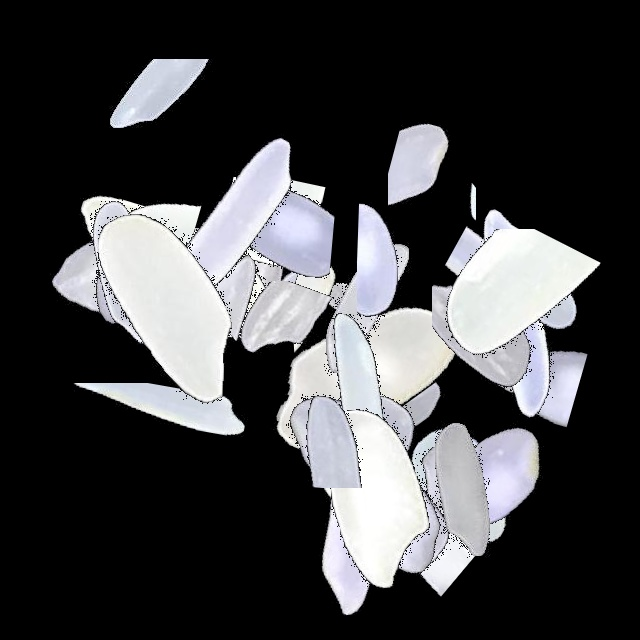Broken: (122, 145, 372, 316), (235, 275, 402, 525), (432, 176, 593, 426), (390, 229, 640, 386), (212, 336, 462, 488), (335, 390, 485, 640), (390, 213, 640, 357), (37, 59, 287, 202), (150, 281, 400, 418), (194, 433, 444, 569), (22, 383, 272, 517), (470, 204, 600, 454), (390, 307, 640, 436), (388, 53, 516, 303), (173, 201, 301, 451), (357, 138, 485, 388), (146, 221, 396, 348), (414, 185, 533, 435), (358, 341, 466, 591), (146, 177, 396, 285), (282, 447, 532, 551), (195, 283, 445, 381), (291, 164, 388, 414), (114, 123, 202, 373), (22, 188, 272, 276), (225, 111, 308, 361), (77, 228, 327, 310), (189, 204, 439, 285), (399, 76, 476, 326)
Full: (0, 142, 250, 392), (238, 253, 488, 503), (338, 360, 588, 610), (241, 182, 491, 432), (219, 319, 469, 569), (272, 390, 522, 640), (124, 138, 374, 388), (243, 320, 493, 570), (42, 166, 292, 416), (385, 201, 635, 451), (367, 353, 617, 603), (387, 187, 637, 437), (270, 390, 520, 640), (229, 390, 479, 640), (9, 140, 259, 390), (43, 144, 293, 394), (254, 371, 504, 621), (0, 149, 250, 399), (336, 363, 586, 613), (105, 94, 355, 344), (40, 182, 290, 432)
